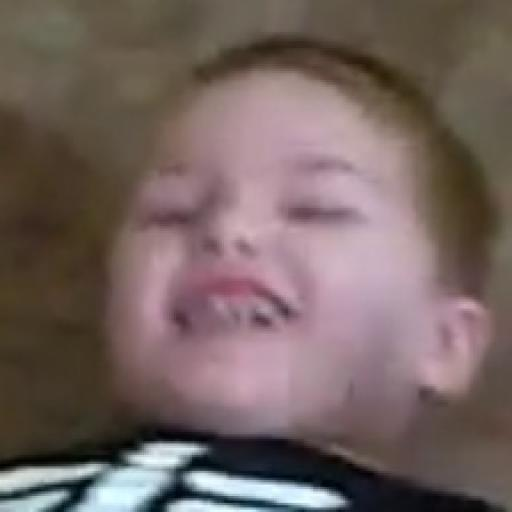Autism: (62, 22, 468, 506)
